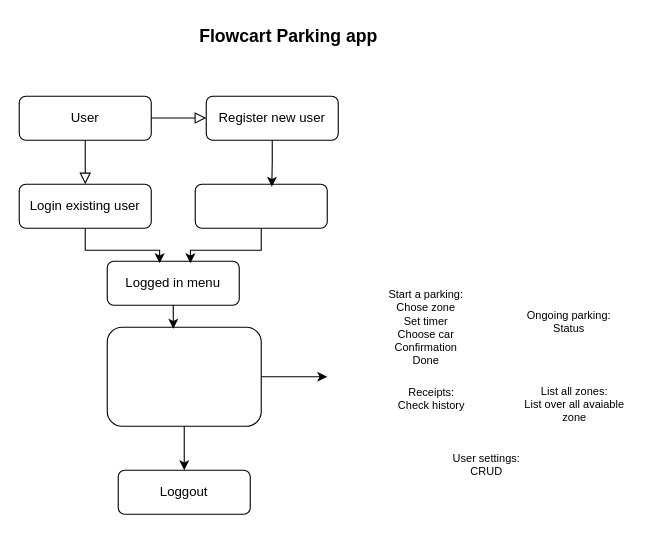
This 655x534 diagram has some shape labels left out. The centre of each missing label's shape, as x and y in pixels:
- Start a parking - Ongoing parking - Receipts - List all zones - User setting: point (183, 376)
User logged in: point (260, 205)
